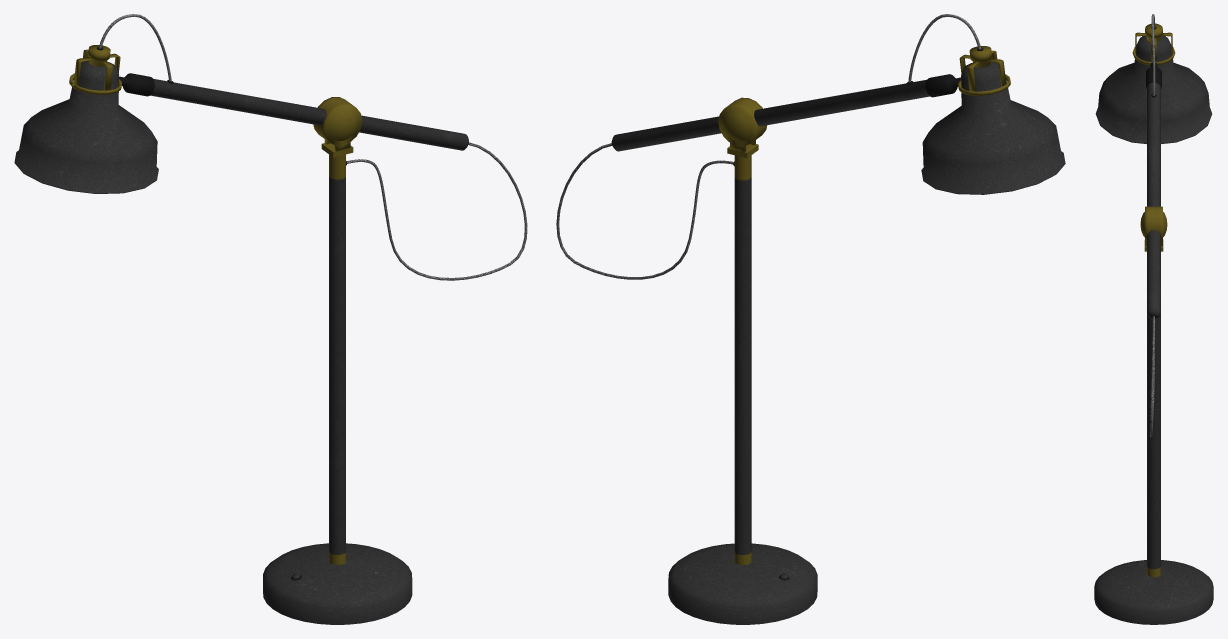
File: ikea2.glb
3 renders of one model, left to right at view 1: azimuth 30°, elevation 25°; view 2: azimuth 150°, elevation 25°; view 3: azimuth 270°, elevation 25°, orthographic. The views are drawn at different scales.
Parts seen in each view (by area): view 1: Object_2; view 2: Object_2; view 3: Object_2.
Part boxes in pixels (x1,y1,x2,y2): Object_2: (14,14,527,624); Object_2: (556,14,1065,624); Object_2: (1094,14,1213,624).
Size of the model in its own units: 0.8106 by 0.9724 by 0.2092.
Materials: 1 (1 with a texture image).
